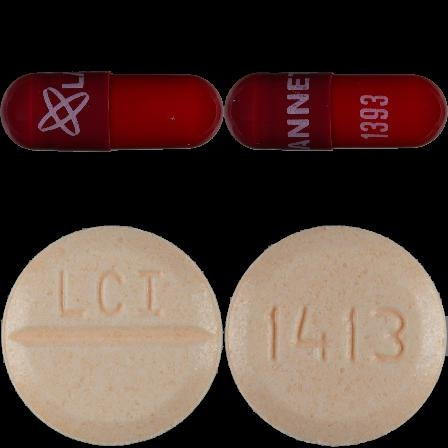0527-1393: (0, 0, 224, 224)
